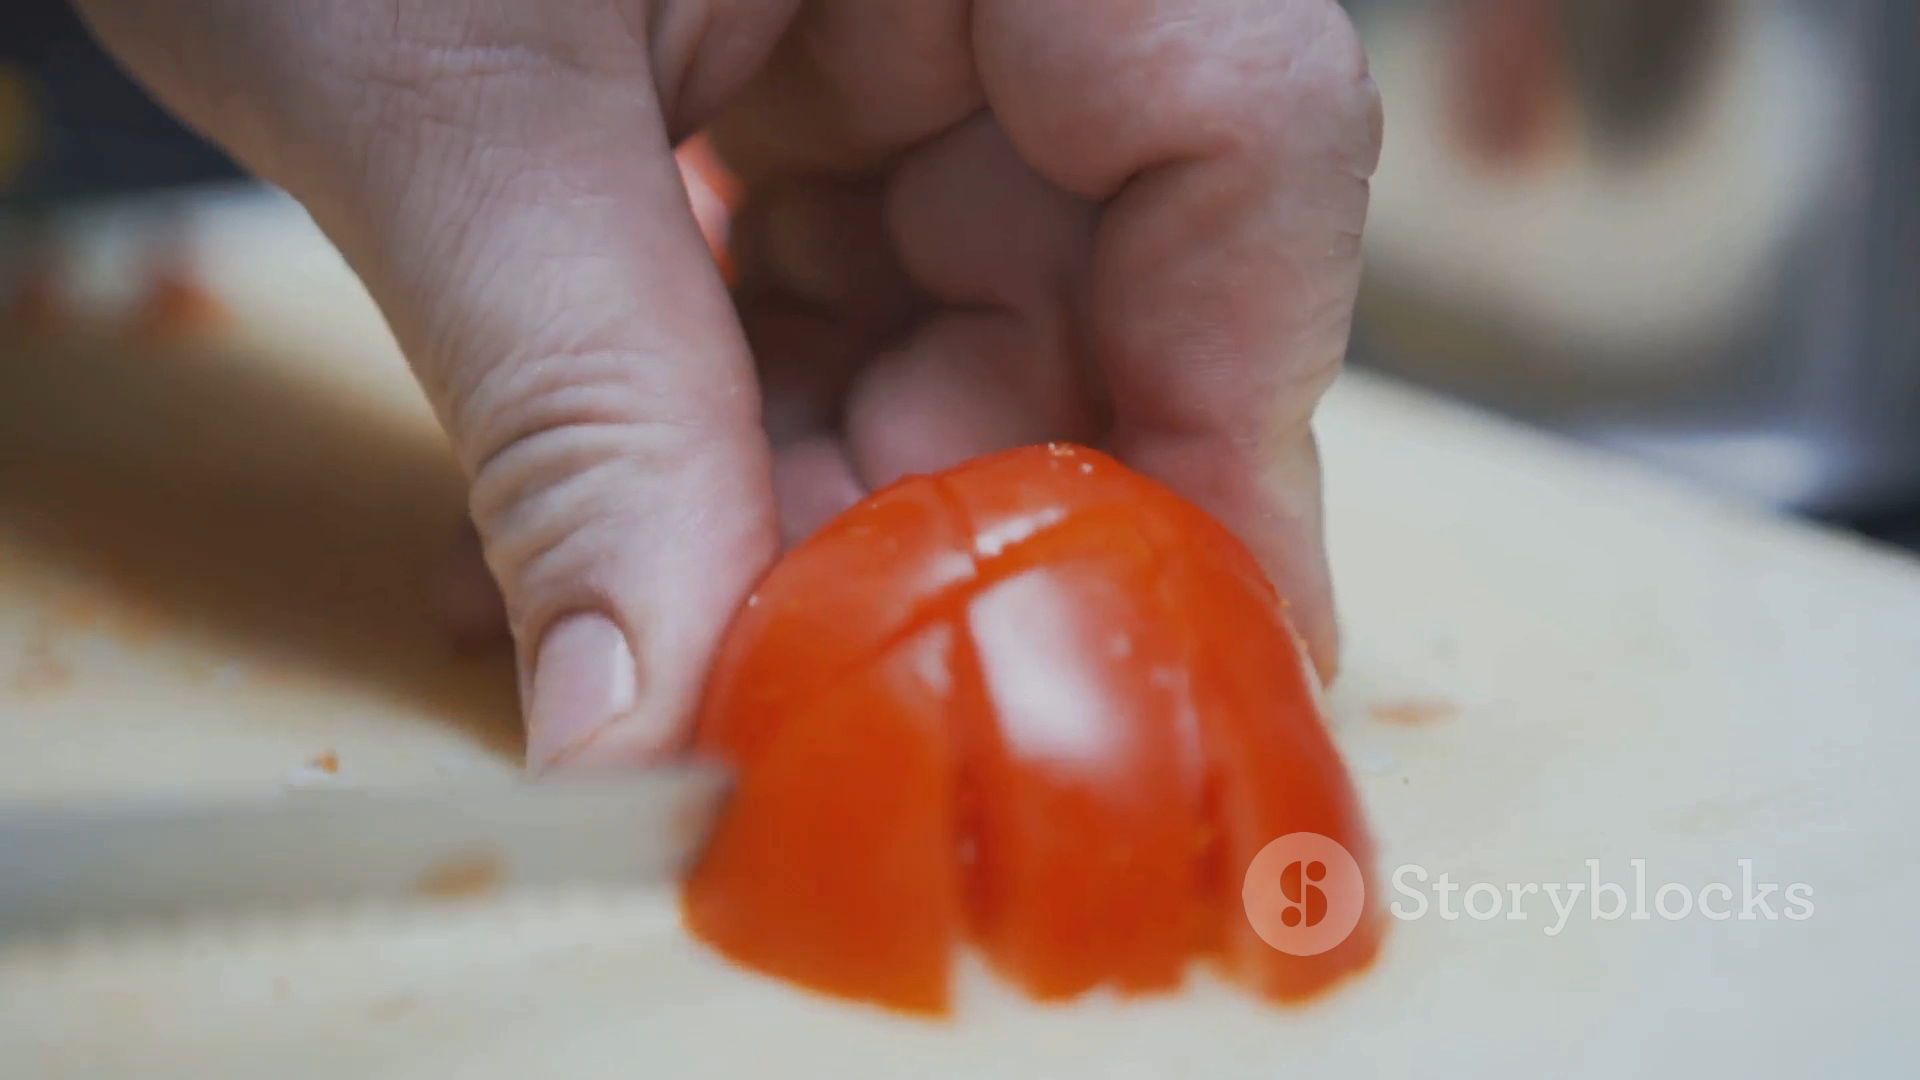cortante: (0, 766, 777, 953)
